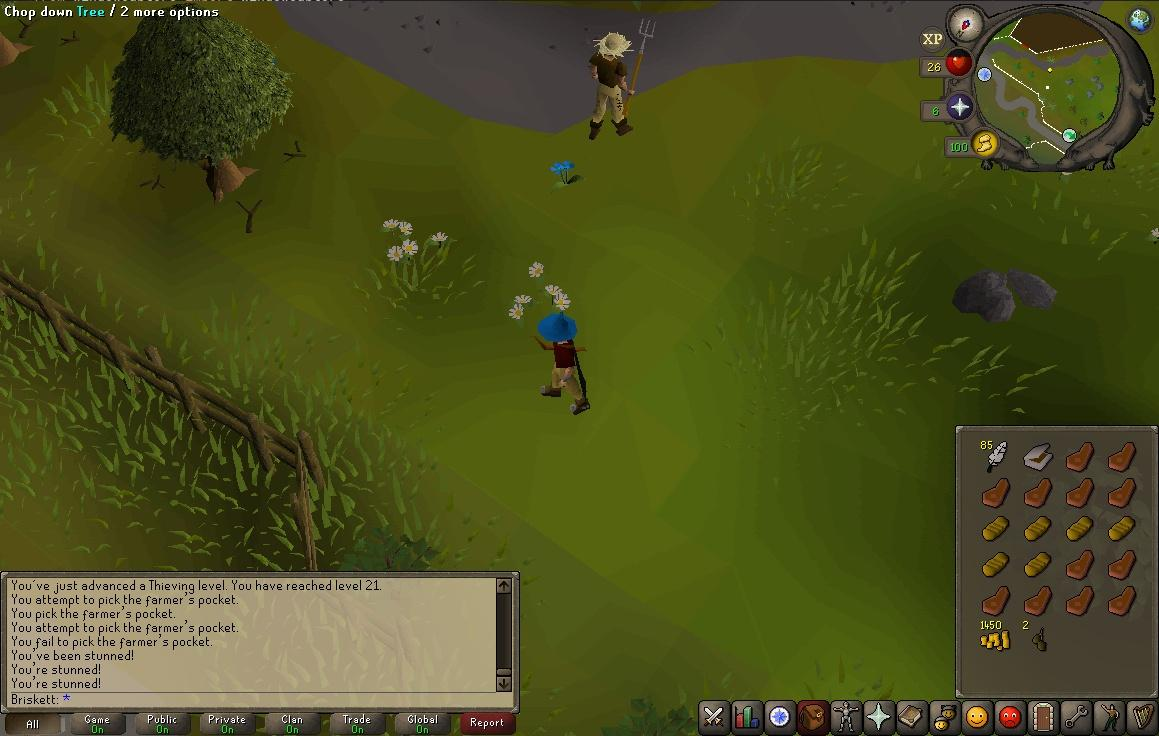Farmer: (587, 32, 636, 141)
